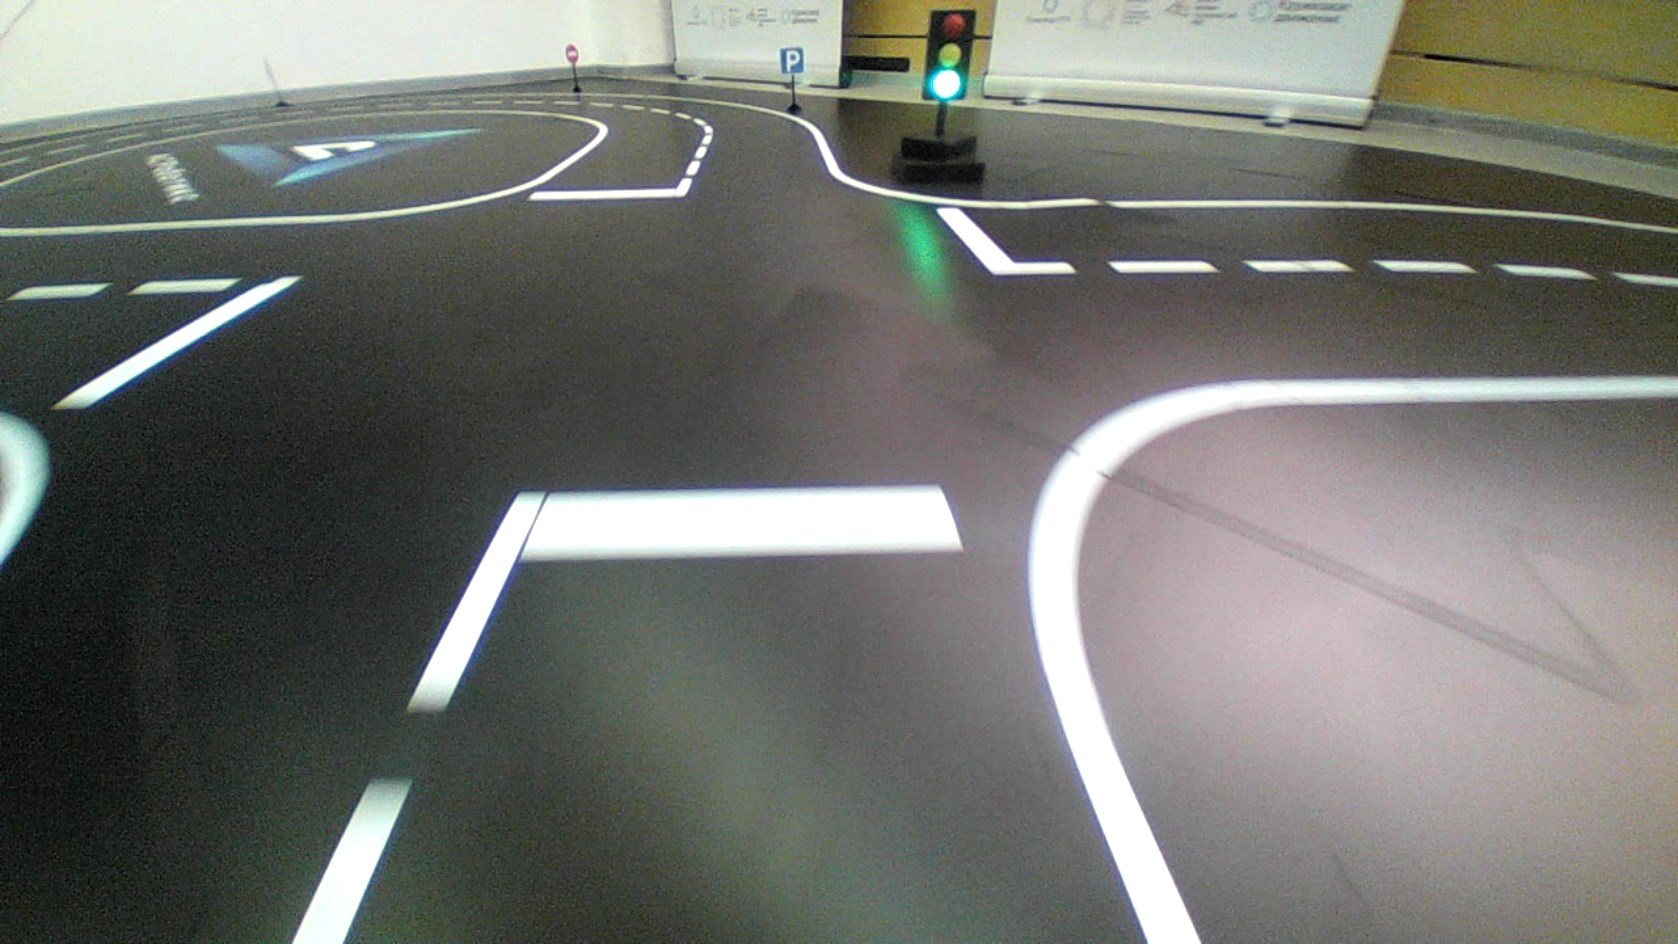trafficlight: (920, 8, 977, 101)
